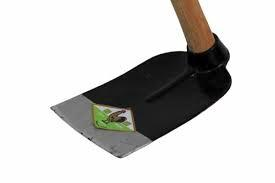HOUE: (39, 0, 254, 177)
